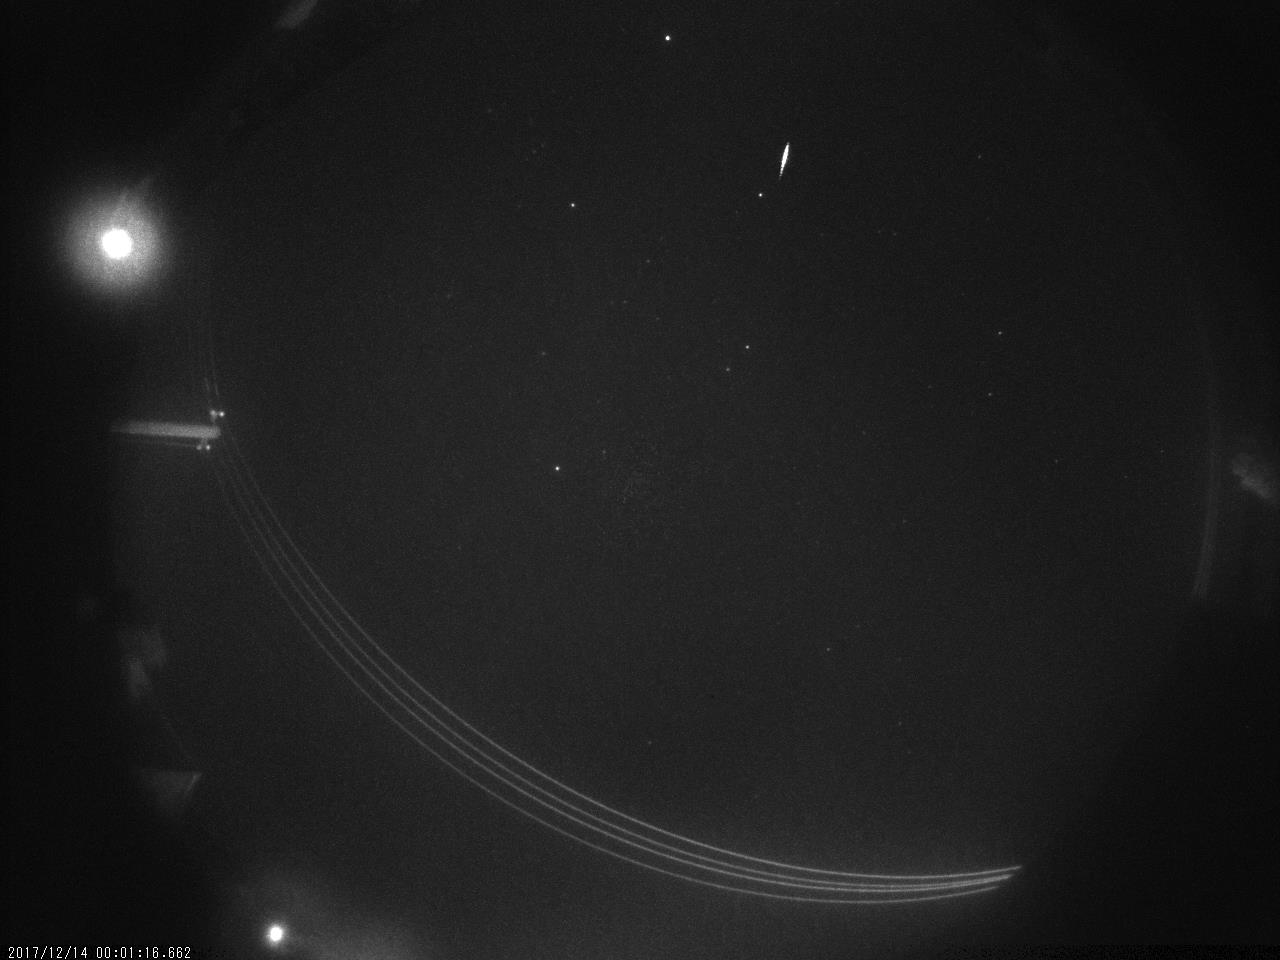meteor: (766, 127, 804, 194)
